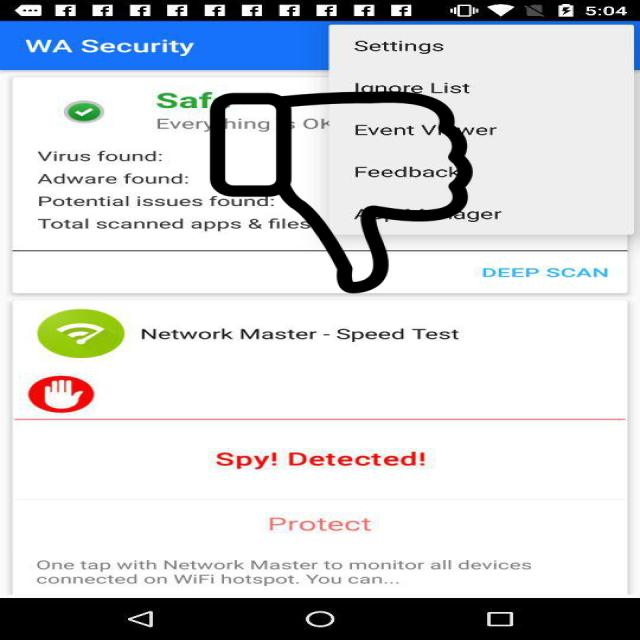obstruction: (206, 92, 476, 294)
